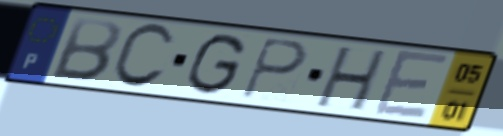B: (46, 15, 123, 84)
C: (107, 21, 178, 92)
E: (369, 47, 453, 121)
G: (183, 31, 249, 98)
H: (310, 45, 392, 115)
P: (238, 35, 310, 101)
